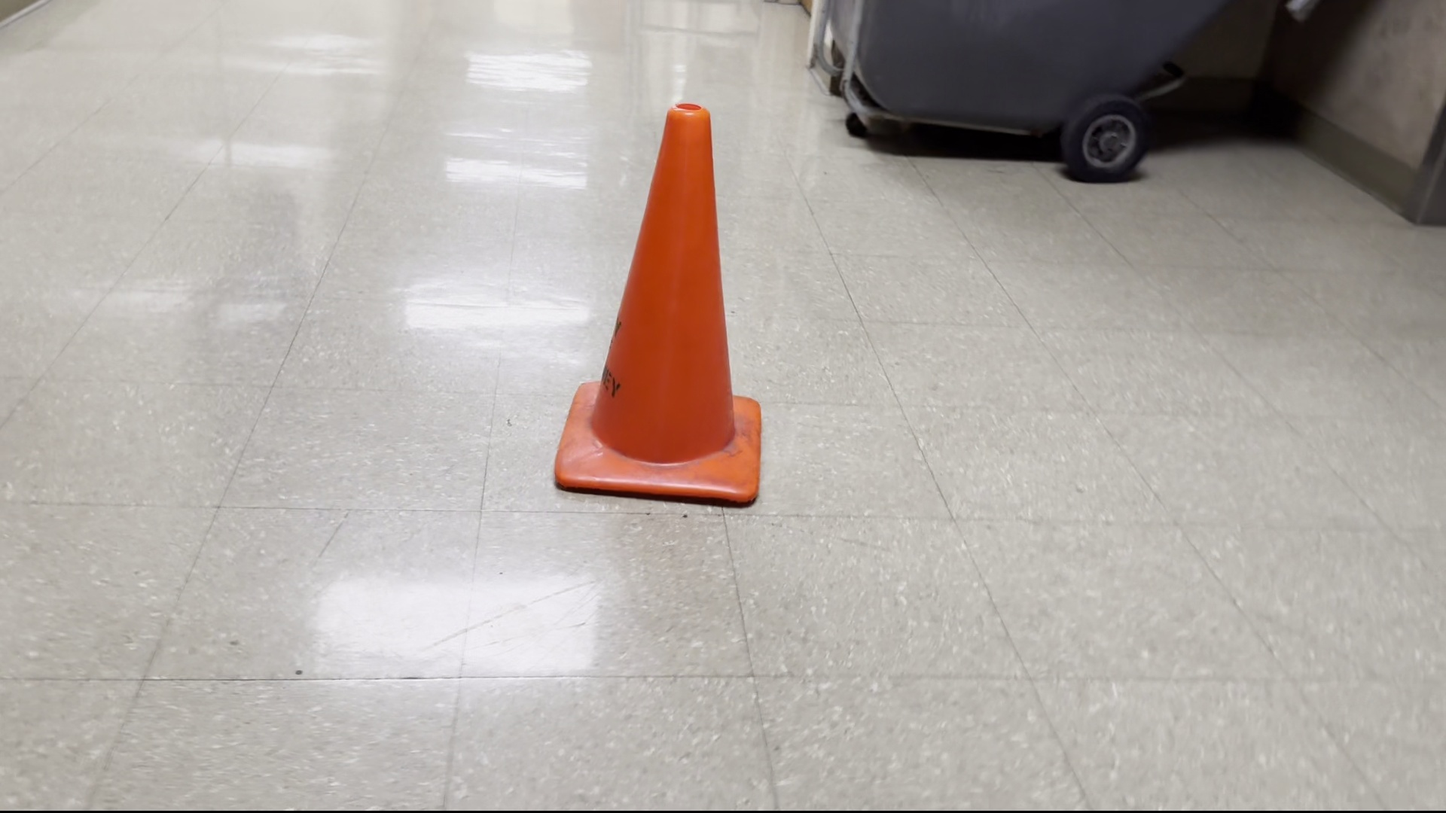traffic_cone: (553, 101, 763, 507)
